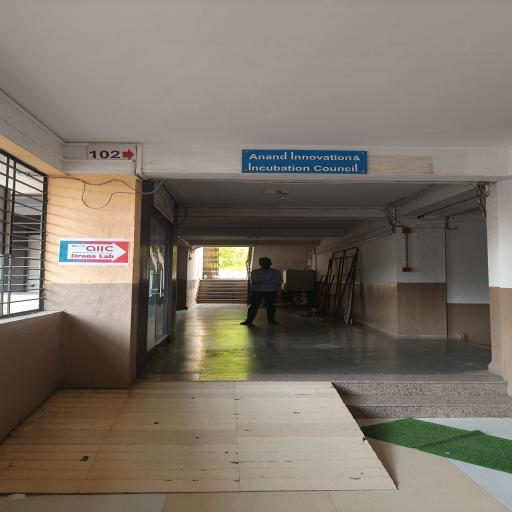survivor: (239, 257, 282, 325)
